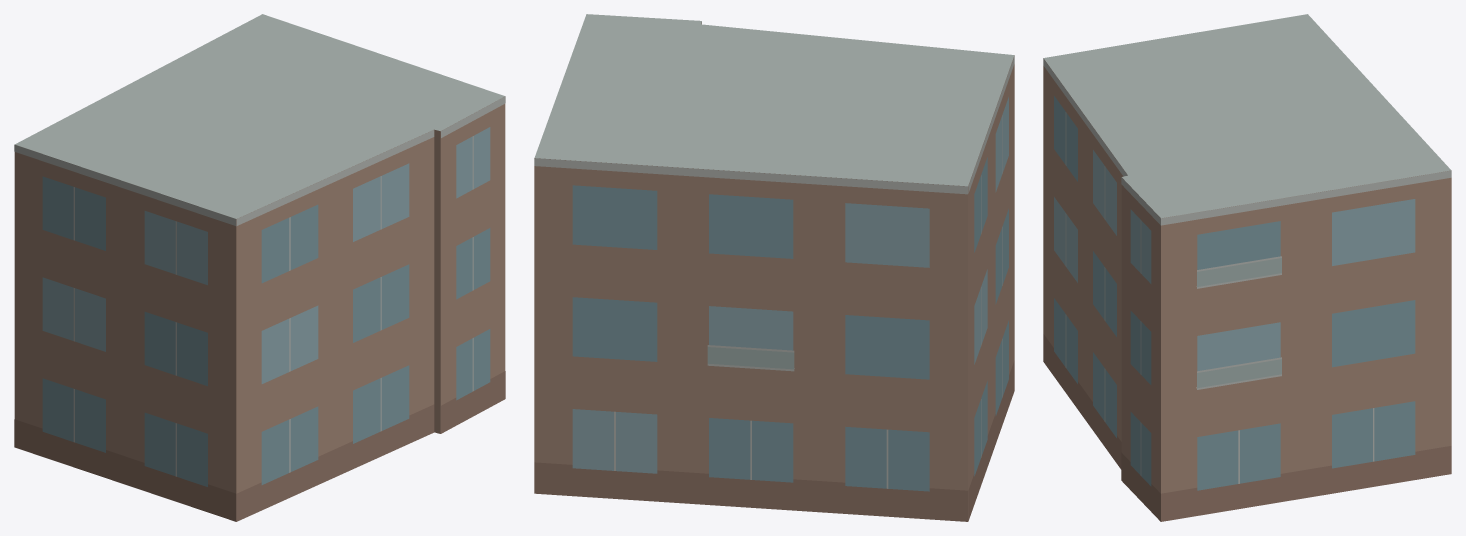
Rendered from survey-upis-32865237.glb.
3 views of the same model, side by side, from view 1: azimuth 30°, elevation 25°; view 2: azimuth 150°, elevation 25°; view 3: azimuth 270°, elevation 25° (orthographic). The views are drawn at different scales.
Visible parts, largest first — view 1: survey-upis-32865237.tmp; view 2: survey-upis-32865237.tmp; view 3: survey-upis-32865237.tmp.
Part boxes in pixels (box(x1,y1,x2,y2)): survey-upis-32865237.tmp: box(14, 14, 505, 521); survey-upis-32865237.tmp: box(534, 14, 1014, 521); survey-upis-32865237.tmp: box(1043, 14, 1451, 521).
Size of the model in its own units: 14.73 by 10.2 by 12.44.
